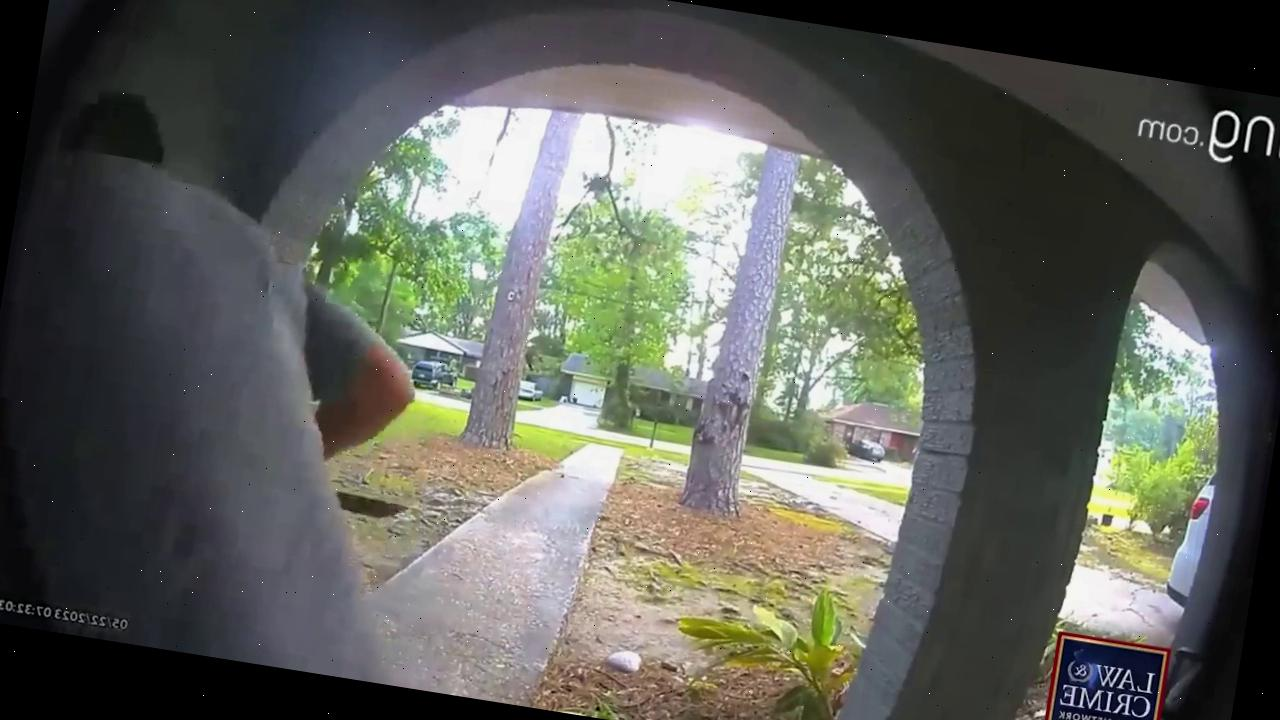suspicion: (0, 74, 404, 673)
